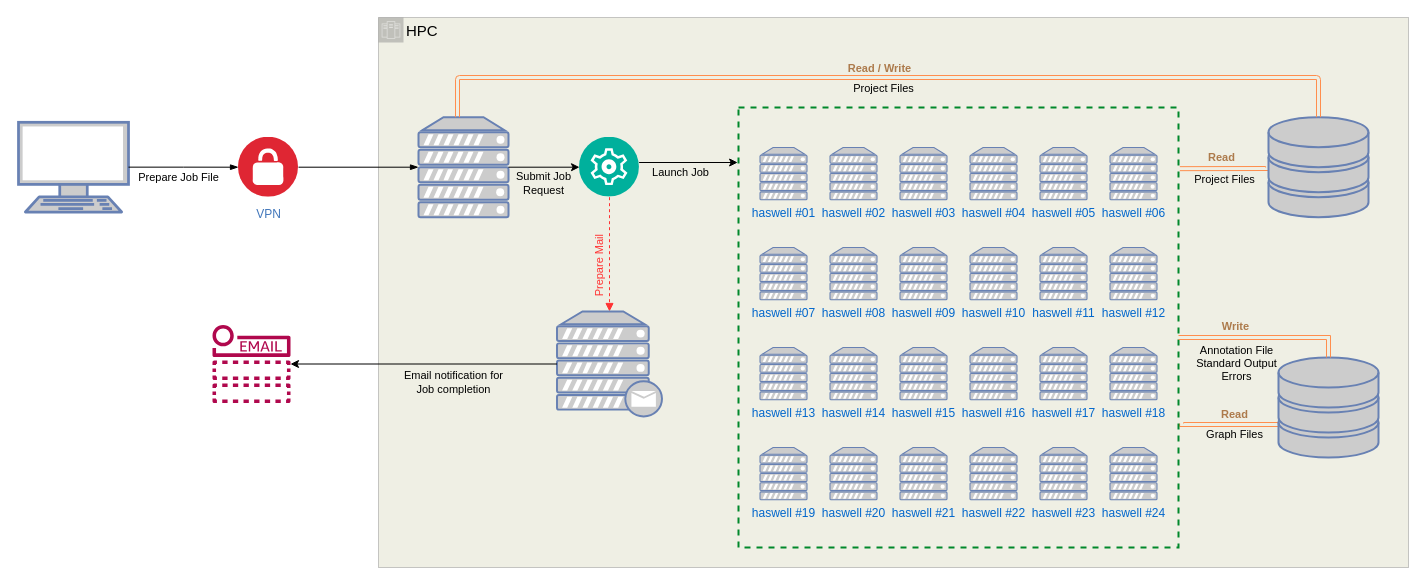
This 1426x585 diagram has some shape labels left out. The box of each missing label's shape, as (x1, y1, x2, y2) in pixels:
Home Storage: (1267, 116, 1369, 218)
Island 6 - Intel Haswell Cluster: (737, 106, 1179, 548)
Login Node: (417, 116, 509, 218)
Mail Server: (556, 310, 662, 417)
SLURM: (579, 137, 639, 197)
Terminal: (17, 121, 129, 212)
Workspace: (1277, 356, 1379, 458)
